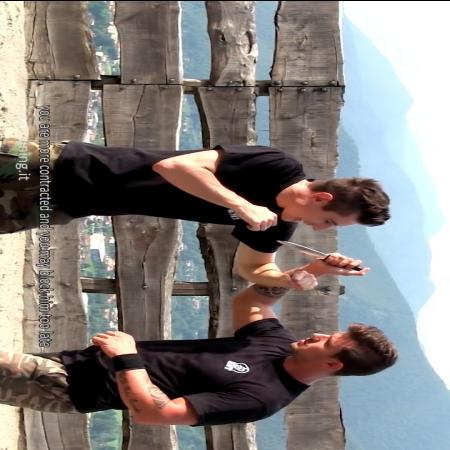long weapon: (273, 237, 376, 275)
